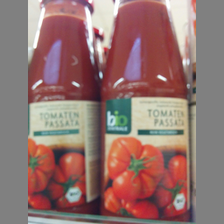tomato_sauce: (98, 1, 192, 224), (29, 1, 101, 215)
